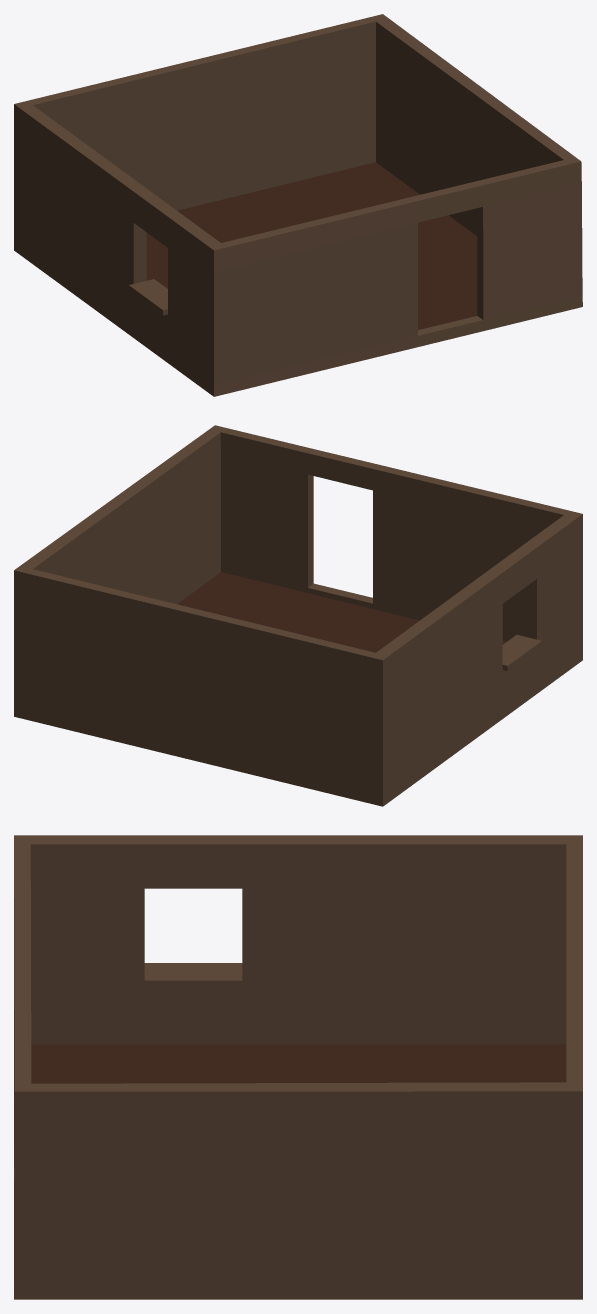
File: Loja.fbx
The picture shows the model from 3 angles, top to bottom: view 1: azimuth 30°, elevation 25°; view 2: azimuth 150°, elevation 25°; view 3: azimuth 270°, elevation 25°; orthographic projection. The views are drawn at different scales.
Parts seen in each view (by area): view 1: Cube; view 2: Cube; view 3: Cube.
Part boxes in pixels (x1,y1,x2,y2): Cube: [14, 14, 582, 396]; Cube: [14, 425, 582, 806]; Cube: [14, 835, 582, 1299].
Size of the model in its own units: 680 by 255 by 630.
